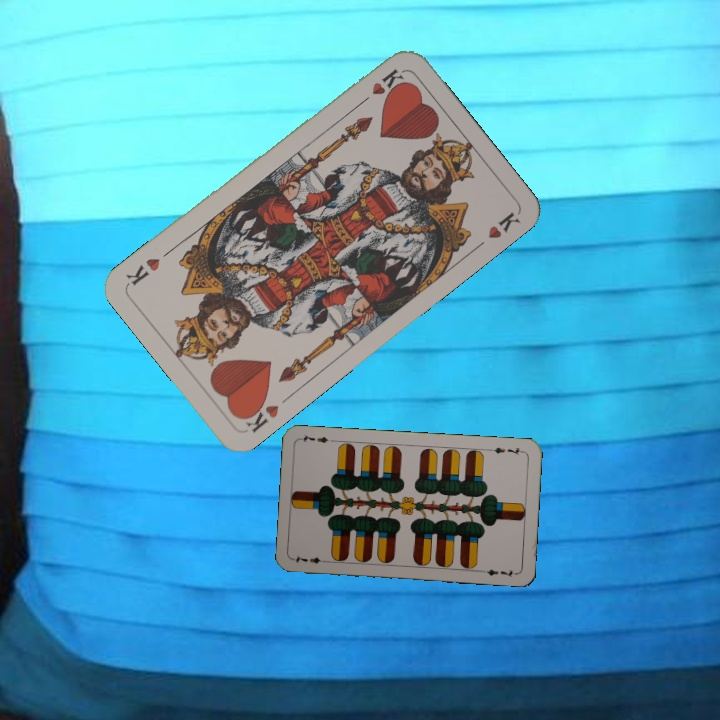E7: (290, 551, 331, 566), (485, 443, 526, 457)
HK: (354, 65, 407, 109), (236, 394, 281, 436)
